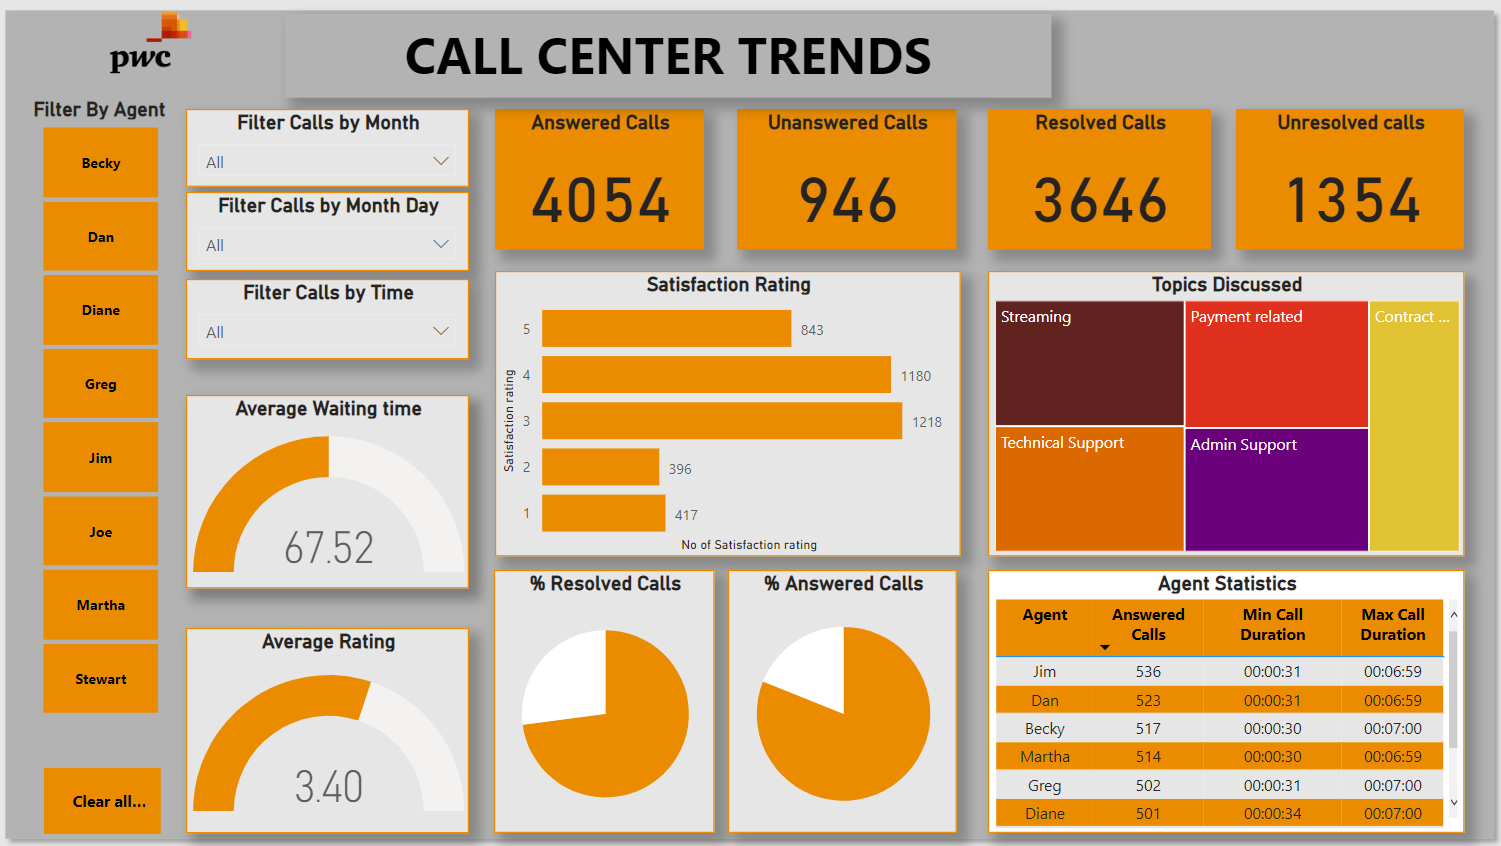

This screenshot's page, from the dashboard's own definition file:
{"tool":"powerbi","page":{"name":"Dashboard","canvas":[1280,720],"ordinal":0},"visuals":[{"type":"shape","box":[0,0,1279.7,720],"z":0},{"type":"card","title":"Answered Calls","fields":{"Values":["Sheet1.Answered (Y/N)"]},"box":[424,92.1,177.1,119.4],"z":1000},{"type":"card","title":"Unanswered Calls","fields":{"Values":["Sheet1.Answered (Y/N)"]},"box":[629.4,92.1,186.2,119.4],"z":2000},{"type":"image","box":[8.1,5.4,246.3,61.8],"z":3000},{"type":"slicer","title":"Filter By Agent","fields":{"Values":["Sheet1.Agent"]},"box":[15.2,82.4,146.9,529.3],"z":4000},{"type":"textbox","box":[246.3,11.6,650.1,70.7],"z":5000},{"type":"barChart","title":"Satisfaction Rating","fields":{"Category":["Sheet1.Satisfaction rating"],"Y":["Sheet1.Satisfaction rating"]},"box":[424,229.7,394.6,241.8],"z":6000},{"type":"slicer","title":"Filter Calls by Month","fields":{"Values":["Sheet1.Date.Variation.Date Hierarchy.Month"]},"box":[161.9,92.1,239.8,65.8],"z":7000},{"type":"slicer","title":"Filter Calls by Month Day","fields":{"Values":["Sheet1.Date.Variation.Date Hierarchy.Day"]},"box":[161.9,162.9,239.8,66.8],"z":8000},{"type":"card","title":"Resolved Calls","fields":{"Values":["Sheet1.Resolved"]},"box":[841.9,92.1,189.2,119.4],"z":9000},{"type":"card","title":"Unresolved calls","fields":{"Values":["Sheet1.Resolved"]},"box":[1052.3,92.1,193.3,119.4],"z":10000},{"type":"treemap","title":"Topics Discussed","fields":{"Group":["Sheet1.Topic"],"Values":["Sheet1.Topic"]},"box":[841.9,229.7,403.7,241.8],"z":11000},{"type":"gauge","title":"Average Waiting time","fields":{"Y":["Sheet1.Speed of answer in seconds"],"MaxValue":["Sheet1.Speed of answer in seconds"],"MinValue":["Sum(Sheet1.Speed of answer in seconds)1"]},"box":[162.1,334.9,240,163.9],"z":12000},{"type":"slicer","title":"Filter Calls by Time","fields":{"Values":["Sheet1.Time"]},"box":[161.9,236.8,239.8,67.8],"z":13000},{"type":"pieChart","title":"% Resolved Calls","fields":{"Category":["Sheet1.Resolved"],"Y":["Sheet1.Resolved"]},"box":[423.6,483.6,187.2,223],"z":14000},{"type":"pieChart","title":"% Answered Calls","fields":{"Category":["Sheet1.Answered (Y/N)"],"Y":["Sheet1.Answered (Y/N)"]},"box":[621.5,483.6,194.3,223],"z":15000},{"type":"gauge","title":"Average Rating","fields":{"Y":["Sheet1.Satisfaction rating"],"MaxValue":["Sum(Sheet1.Satisfaction rating)1"],"MinValue":["Sum(Sheet1.Satisfaction rating)2"]},"box":[162.1,532.8,240,173.7],"z":16000},{"type":"actionButton","box":[41.2,651,98.5,55.5],"z":17000},{"type":"tableEx","title":"Agent Statistics","fields":{"Values":["Sheet1.Agent","Sheet1.Answered (Y/N)","Sheet1.AvgTalkDuration","Sheet1.AvgTalkDuration"]},"box":[841.8,483.6,403.9,223],"z":18000}]}

Visuals, with their boxes in screenshot pixels (x1, y1, x2, y2), scaled from the page's 1280x720 canvas onto the 1501x846 screenshot:
shape: box=[0, 0, 1500, 845]
"Answered Calls" card: box=[497, 108, 705, 249]
"Unanswered Calls" card: box=[738, 108, 956, 249]
image: box=[9, 6, 298, 79]
"Filter By Agent" slicer: box=[18, 97, 190, 719]
textbox: box=[289, 14, 1051, 97]
"Satisfaction Rating" barChart: box=[497, 270, 960, 554]
"Filter Calls by Month" slicer: box=[190, 108, 471, 186]
"Filter Calls by Month Day" slicer: box=[190, 191, 471, 270]
"Resolved Calls" card: box=[987, 108, 1209, 249]
"Unresolved calls" card: box=[1234, 108, 1461, 249]
"Topics Discussed" treemap: box=[987, 270, 1461, 554]
"Average Waiting time" gauge: box=[190, 394, 472, 586]
"Filter Calls by Time" slicer: box=[190, 278, 471, 358]
"% Resolved Calls" pieChart: box=[497, 568, 716, 830]
"% Answered Calls" pieChart: box=[729, 568, 957, 830]
"Average Rating" gauge: box=[190, 626, 472, 830]
actionButton: box=[48, 765, 164, 830]
"Agent Statistics" tableEx: box=[987, 568, 1461, 830]
